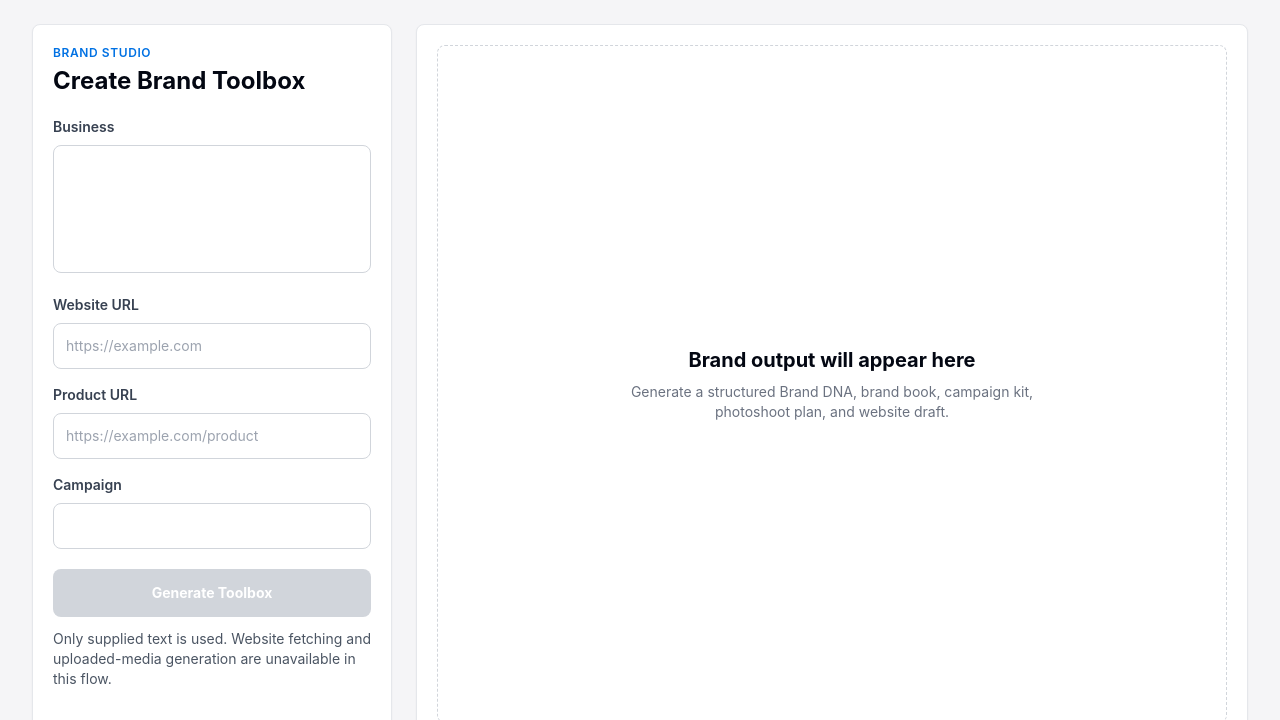
retires a late generated result when its input changes
This screenshot has width=1280, height=720.
Later steps or results of the test are not shown.
Type "First owner description" into the text box labelled "Business".
click(212, 209); type("First owner description")  # box [53,145,371,273]
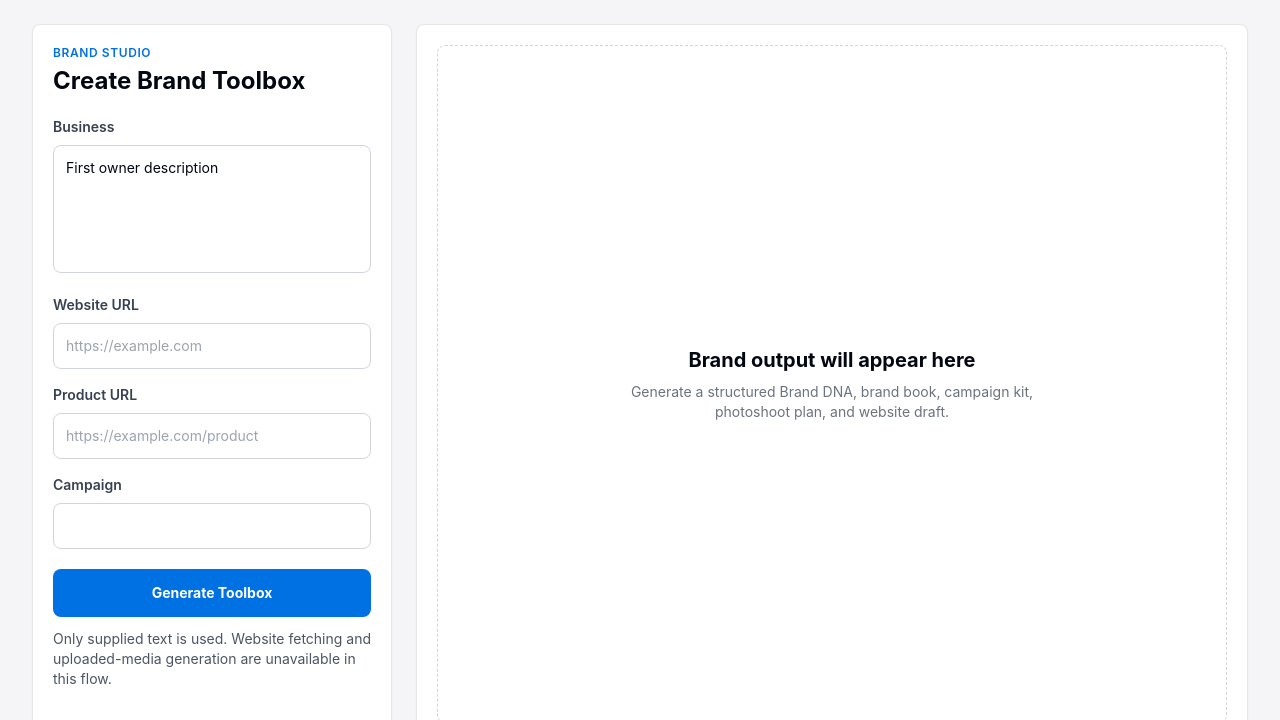
expect the button "Generate Toolbox" is enabled: met, box [53,569,371,617]
